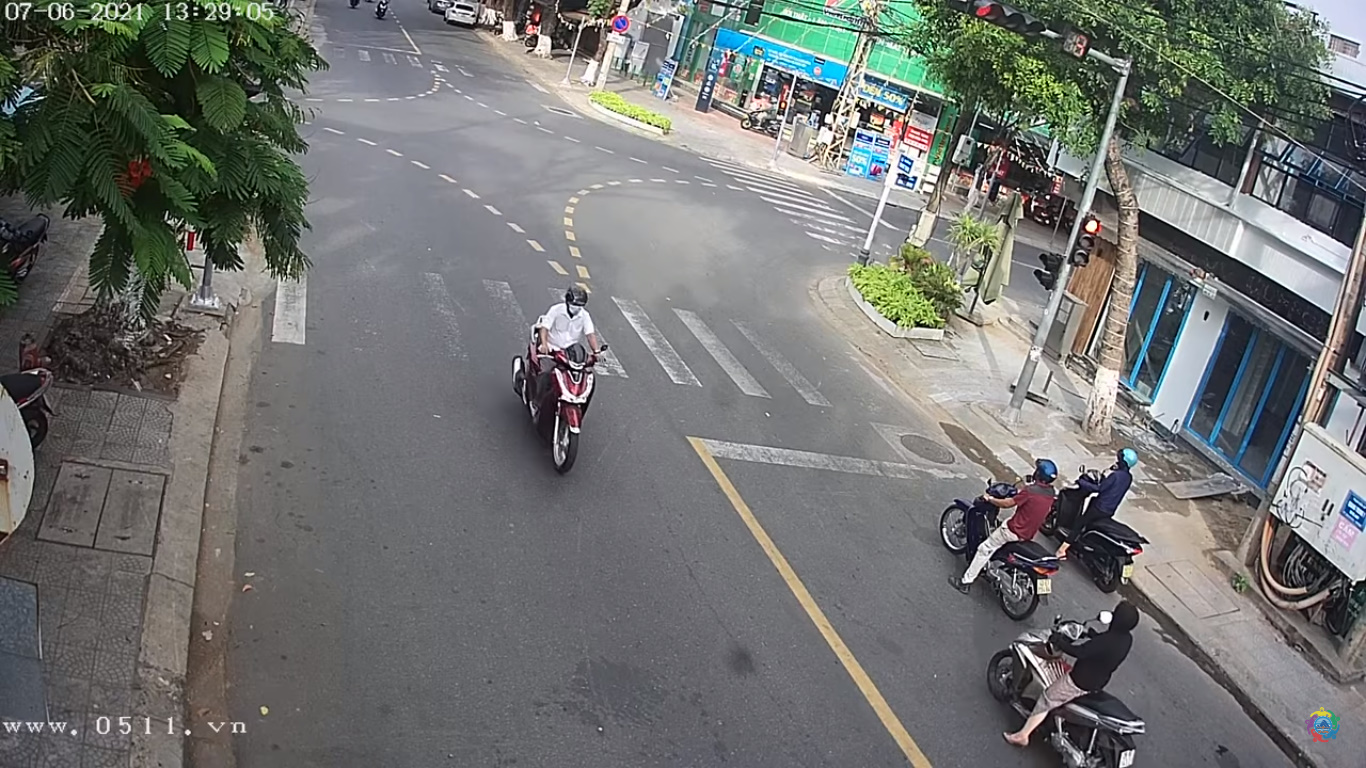motorbike: (520, 284, 608, 471)
